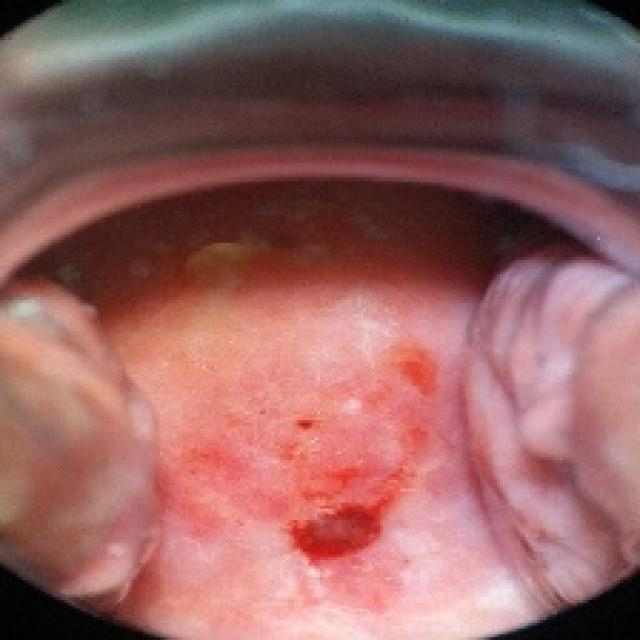type-2: (0, 124, 639, 640)
